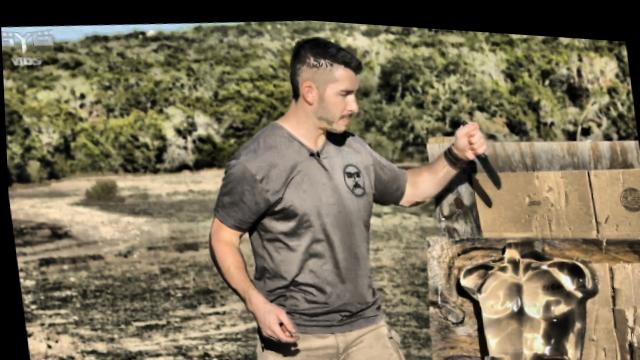knife: (450, 106, 505, 193)
